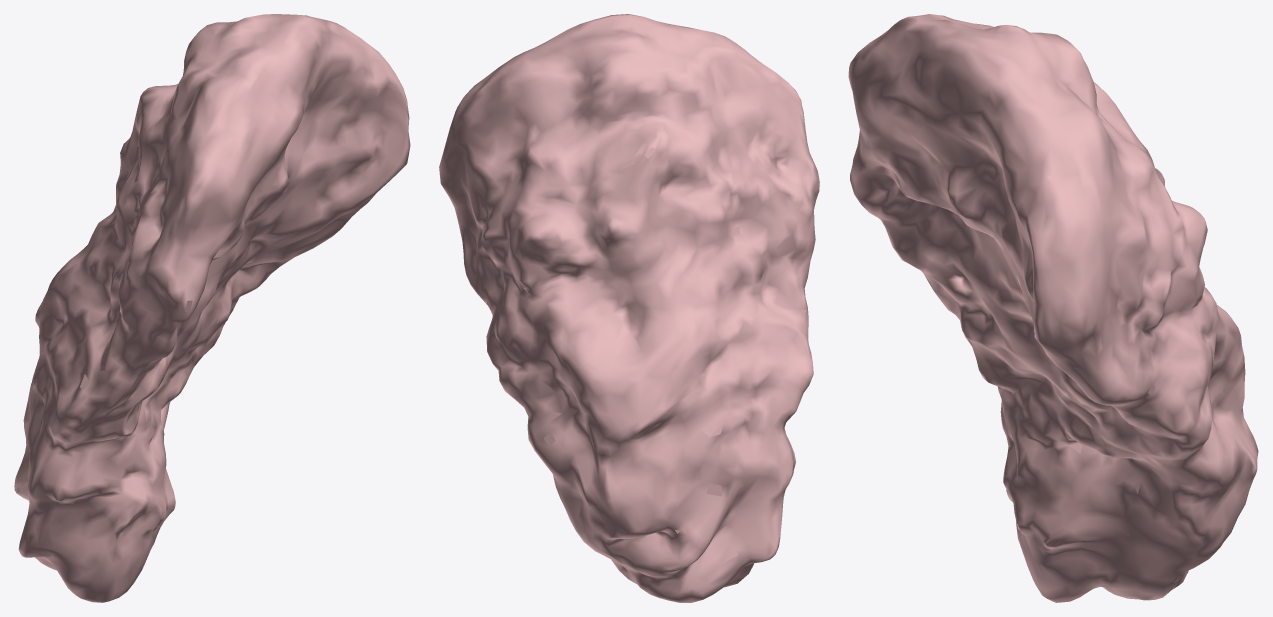
Rendered from 3d-vh-m-palatine-tonsil-r-80.glb.
3 views of the same model, side by side, from view 1: azimuth 30°, elevation 25°; view 2: azimuth 150°, elevation 25°; view 3: azimuth 270°, elevation 25° (orthographic). The views are drawn at different scales.
Visible parts, largest first — view 1: VH_M_palatine_tonsil_R; view 2: VH_M_palatine_tonsil_R; view 3: VH_M_palatine_tonsil_R.
Part boxes in pixels (x1,y1,x2,y2): VH_M_palatine_tonsil_R: (14,14,410,602); VH_M_palatine_tonsil_R: (439,14,819,602); VH_M_palatine_tonsil_R: (848,14,1258,602).
Bounding box in the file's own units: 0.0168 × 0.0239 × 0.0139.
